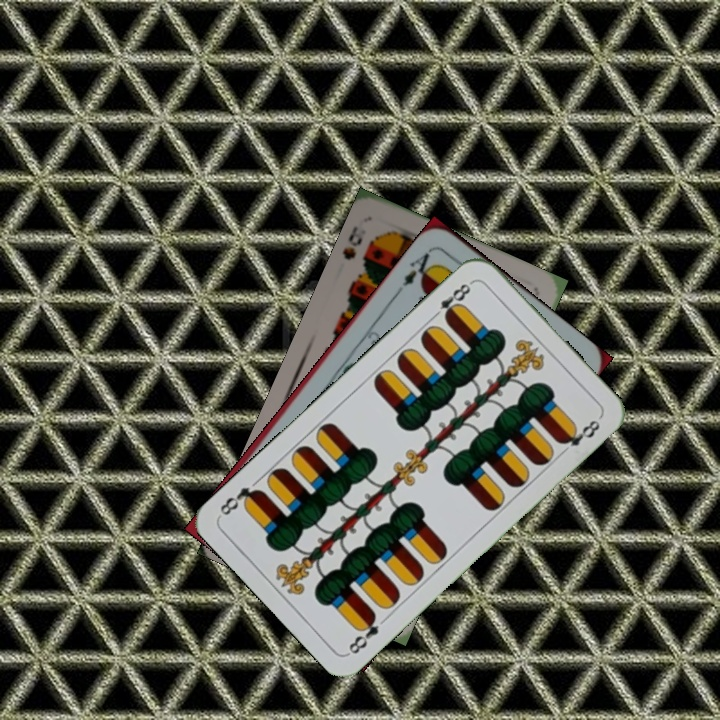E8: (428, 277, 476, 323), (344, 609, 381, 658)
EA: (393, 245, 438, 295)
S8: (338, 222, 365, 263)
